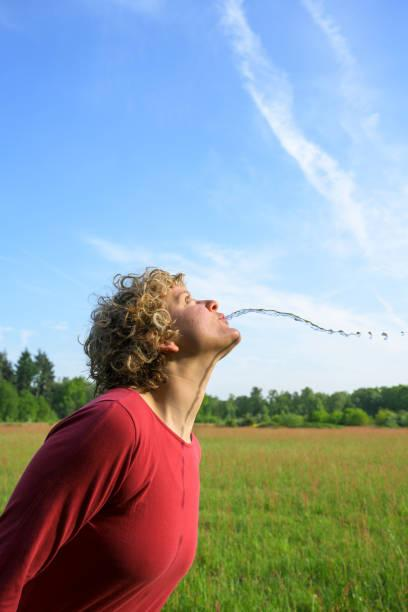Spitting: (105, 207, 317, 429)
